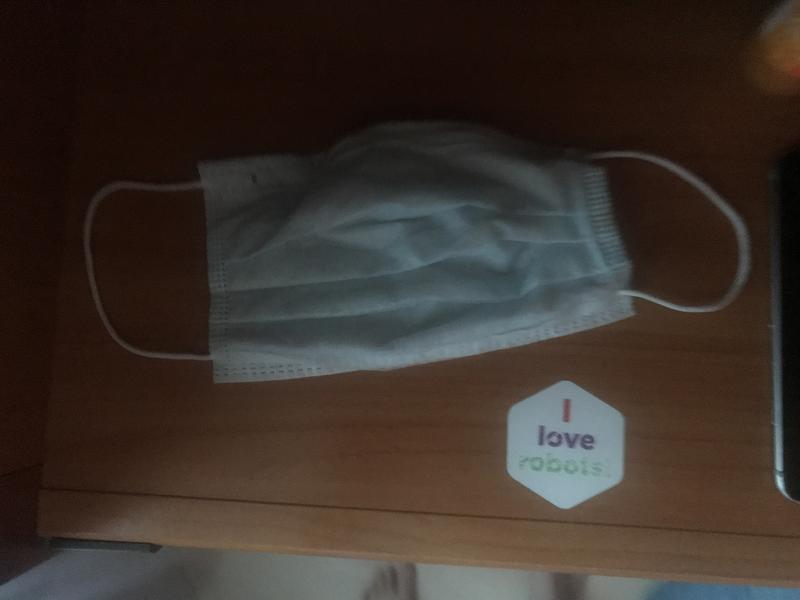medical_mask: (83, 122, 749, 372)
